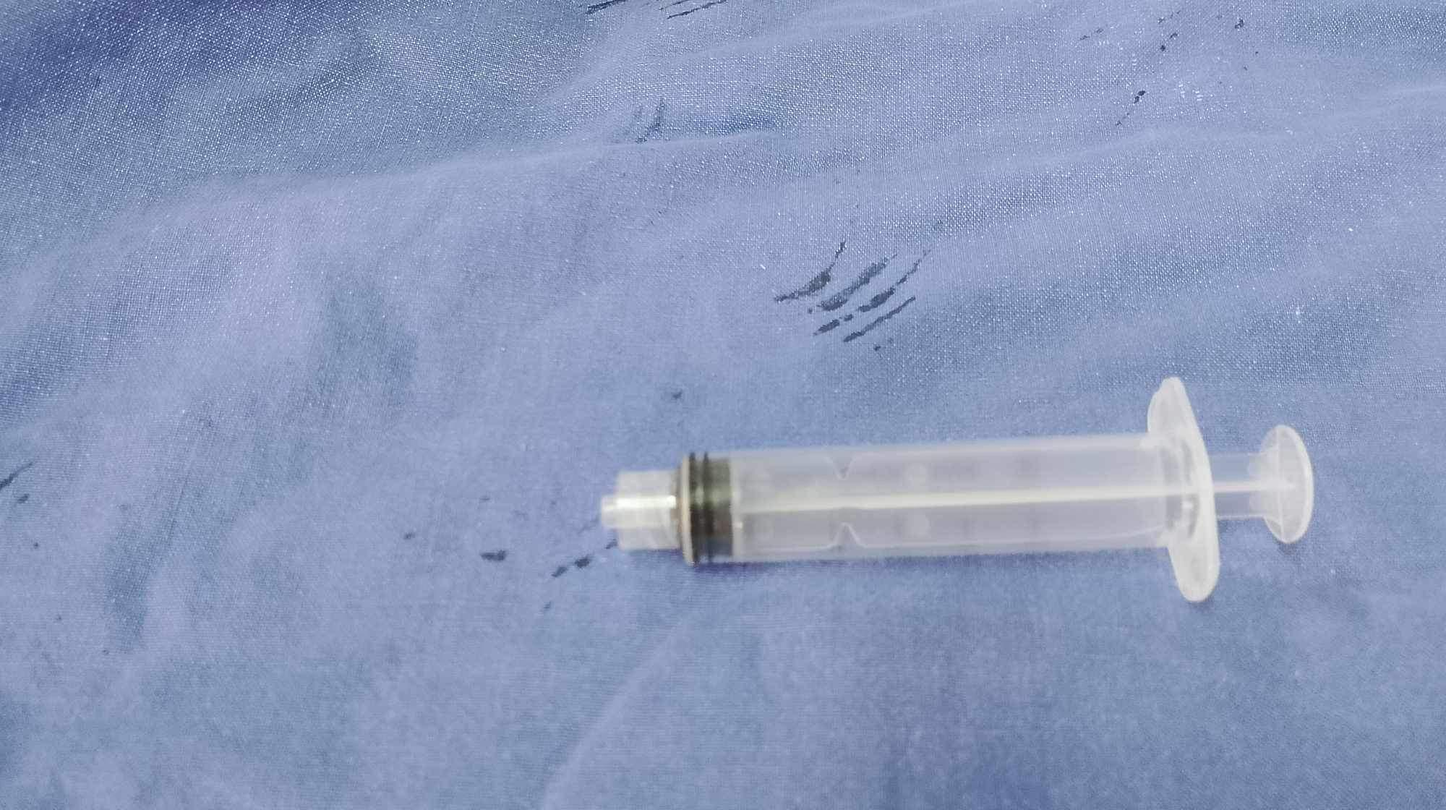General: (5, 4, 1439, 803)
Sharps: (599, 375, 1316, 603)
